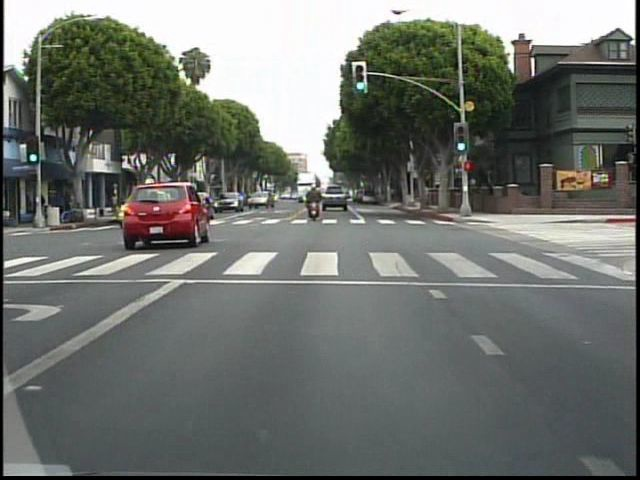person: (305, 179, 327, 224)
